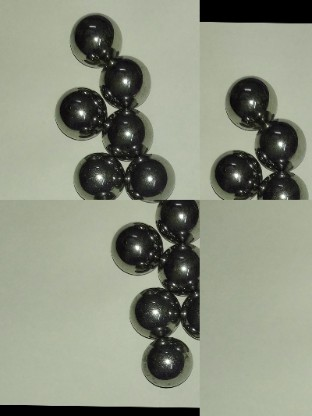ironball: (104, 214, 172, 274), (52, 79, 110, 143), (117, 146, 180, 201), (199, 145, 263, 199), (218, 73, 277, 131), (250, 113, 307, 173), (122, 283, 184, 336), (99, 51, 156, 106), (137, 333, 190, 390), (67, 151, 128, 200), (66, 10, 118, 66), (101, 105, 155, 158), (159, 234, 205, 295), (150, 199, 207, 243), (261, 170, 310, 201), (175, 288, 200, 338)
